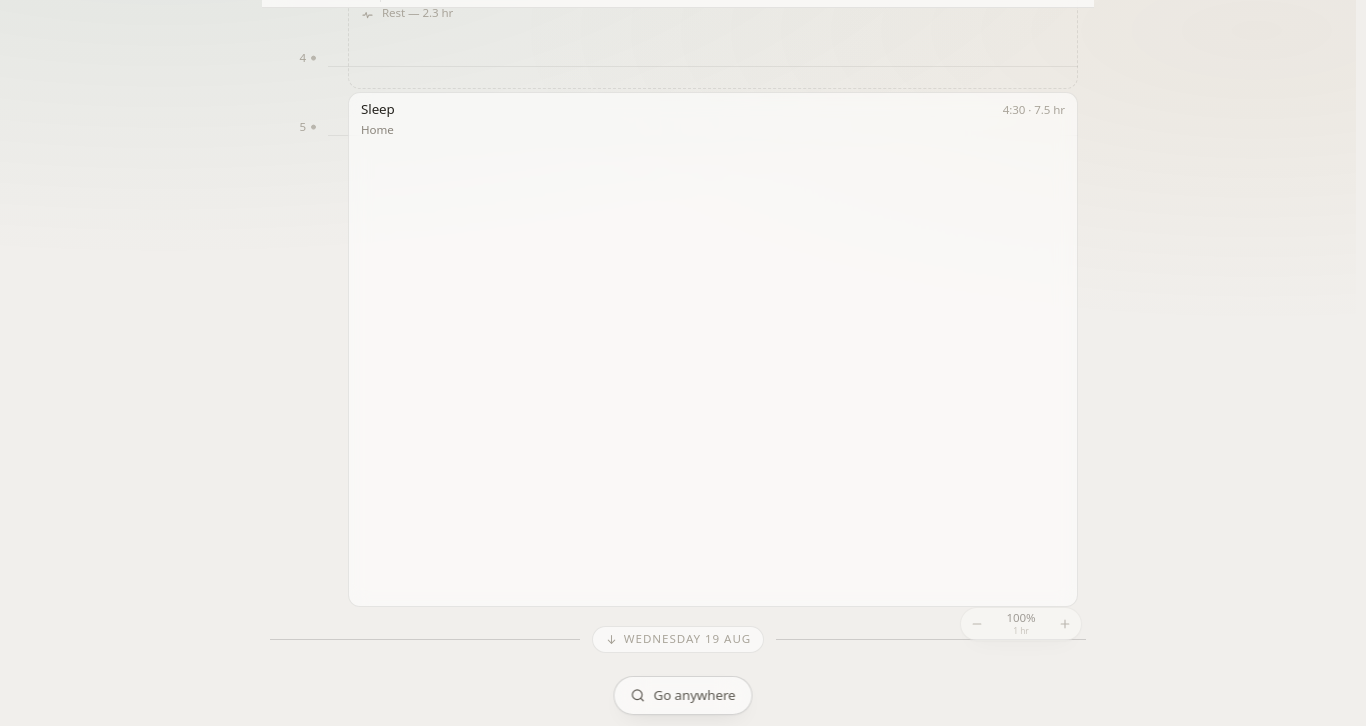
Test: the timeline zooms › adds finer lines as you zoom in
The image size is (1366, 726).
(page scrolled)
Click the button named "Zoom in". click: point(1065, 624)
box: [1052,611,1078,637]
(page scrolled)
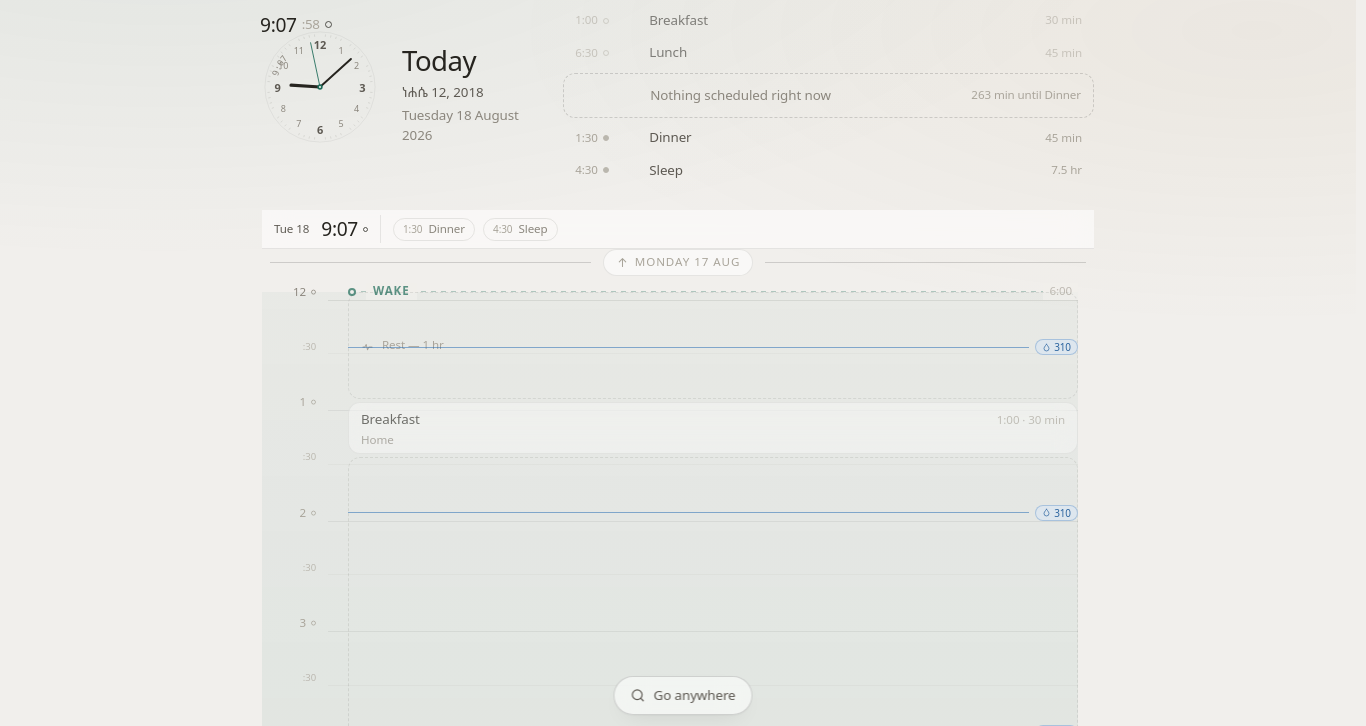
Result: the 1st element with class "sub" is shown at [303,340,316,353]
